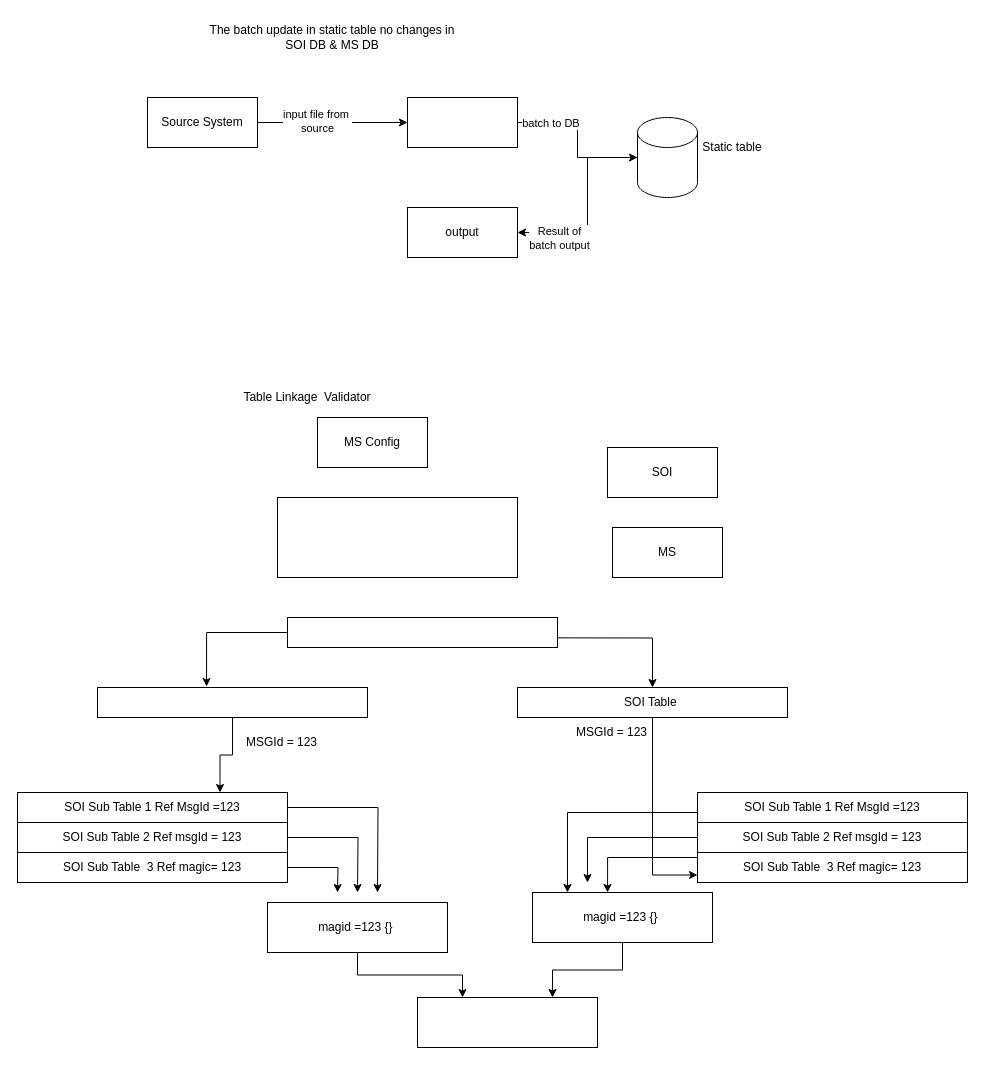
Image size: 985x1065. Some labels were removed from this diagram. The shapes that lost their labels are listed below. From the top down, each one's centre as x and y in pixels, then its label:
At [462,122]: "incoming".
At [667,157]: "DB".
At [397,537]: "Table Comparator Engine".
At [422,632]: "ServiceId - Table Name".
At [232,702]: "MS Table".
At [507,1022]: "Table Comparator".
